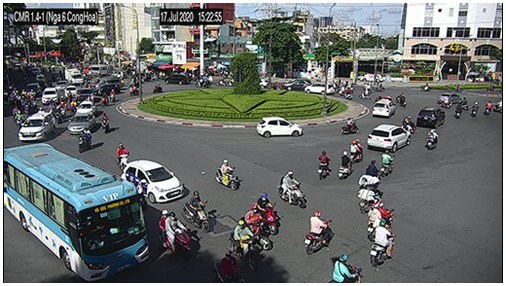xe_buyt: (3, 143, 149, 283)
xe_hoi: (123, 160, 185, 204), (368, 123, 412, 152), (255, 116, 303, 139), (19, 111, 52, 141), (418, 104, 447, 128), (69, 112, 92, 135), (373, 98, 395, 118), (304, 82, 336, 94), (285, 78, 312, 89), (165, 73, 188, 85), (42, 87, 57, 104), (78, 100, 96, 114), (27, 83, 41, 92), (111, 69, 125, 78)
xe_khach: (89, 64, 109, 76)
xe_may: (159, 210, 193, 263), (245, 203, 272, 250), (233, 218, 258, 267), (305, 209, 331, 256), (183, 191, 210, 232), (371, 219, 394, 267), (368, 199, 394, 241), (280, 170, 304, 208), (330, 254, 361, 282), (256, 192, 277, 233), (218, 250, 244, 281), (215, 159, 239, 191), (359, 183, 379, 212), (361, 162, 378, 189), (348, 138, 364, 164), (318, 151, 332, 180), (381, 148, 394, 179), (339, 151, 352, 180), (78, 128, 92, 153), (341, 117, 360, 135), (115, 144, 127, 168), (427, 127, 439, 151), (403, 115, 414, 134), (128, 82, 142, 95), (99, 113, 108, 133), (438, 96, 452, 108), (469, 100, 478, 117), (14, 110, 22, 128), (360, 87, 371, 100), (397, 93, 407, 106), (493, 98, 501, 113), (483, 100, 491, 114), (420, 82, 431, 92), (215, 76, 226, 86), (69, 97, 77, 110), (28, 89, 37, 100), (346, 86, 354, 98), (154, 81, 162, 93), (340, 83, 347, 96), (56, 110, 63, 123), (455, 104, 461, 119), (10, 92, 16, 106), (59, 97, 66, 109), (109, 90, 115, 102), (227, 78, 233, 84)
xe_tai: (64, 68, 85, 84)
